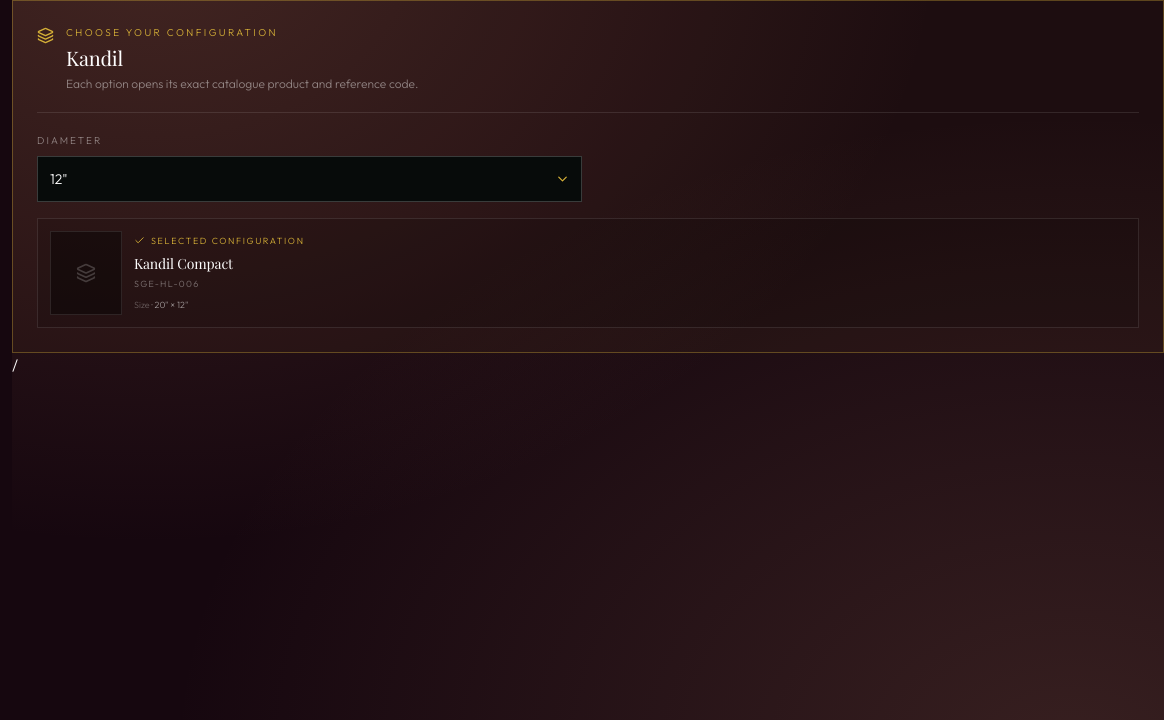
legacy Size approval shows Diameter separately when height is unchanged
The image size is (1164, 720).
Select "16\"" in the dropdown labelled "Diameter" at (310, 179), box [37, 156, 582, 202]
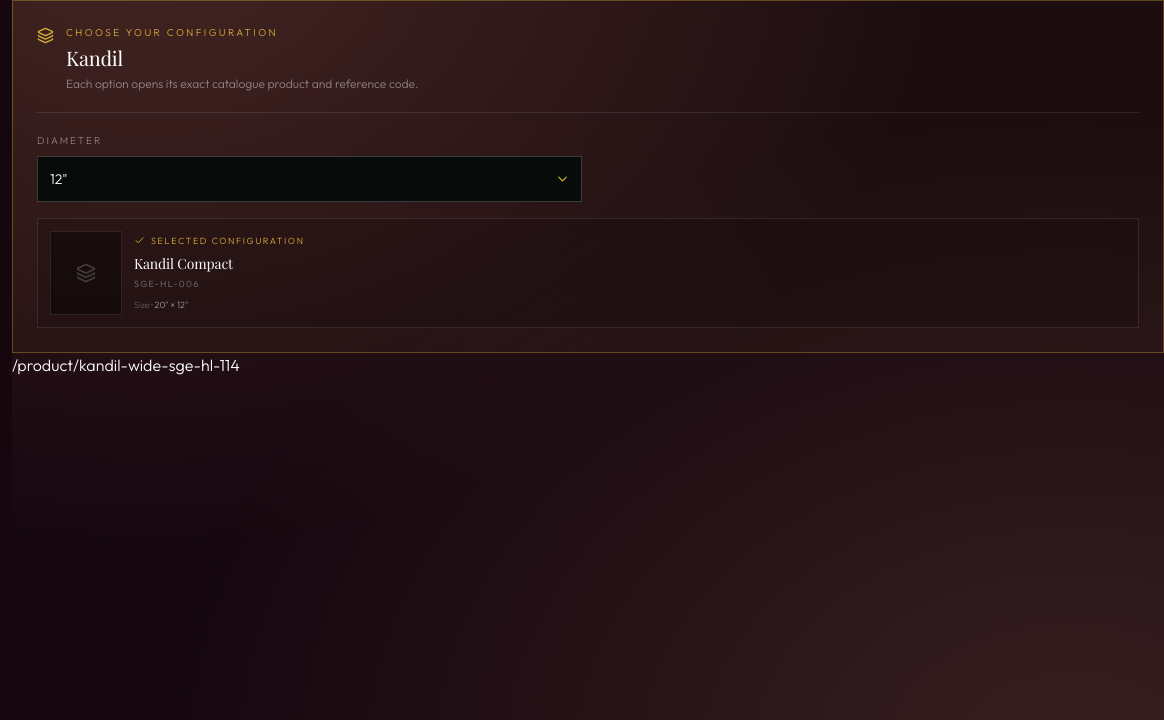
Now the text with test id "location" shows "sge-hl-114", box [12, 355, 240, 375]
